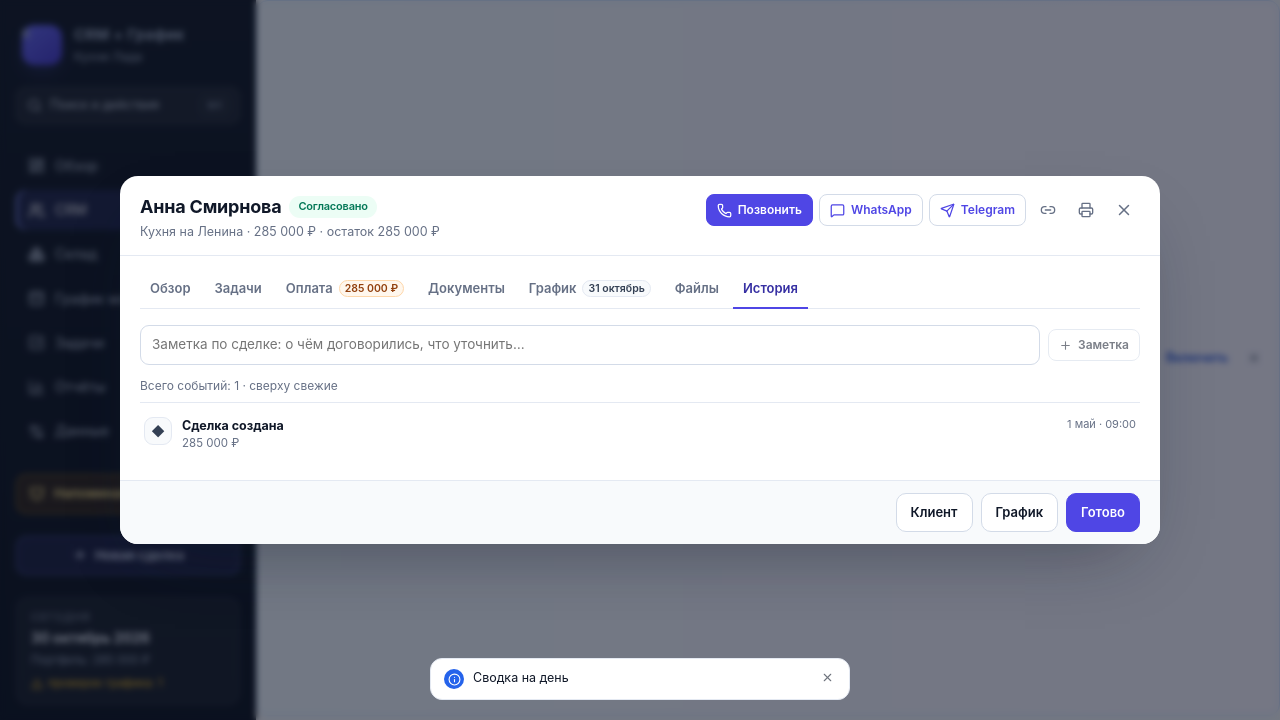
Test: авторство › заметка в истории подписана именем из настроек
Type "Позвонить в пятницу" into the field named "Новая заметка" at (590, 345), box [140,325,1040,365]
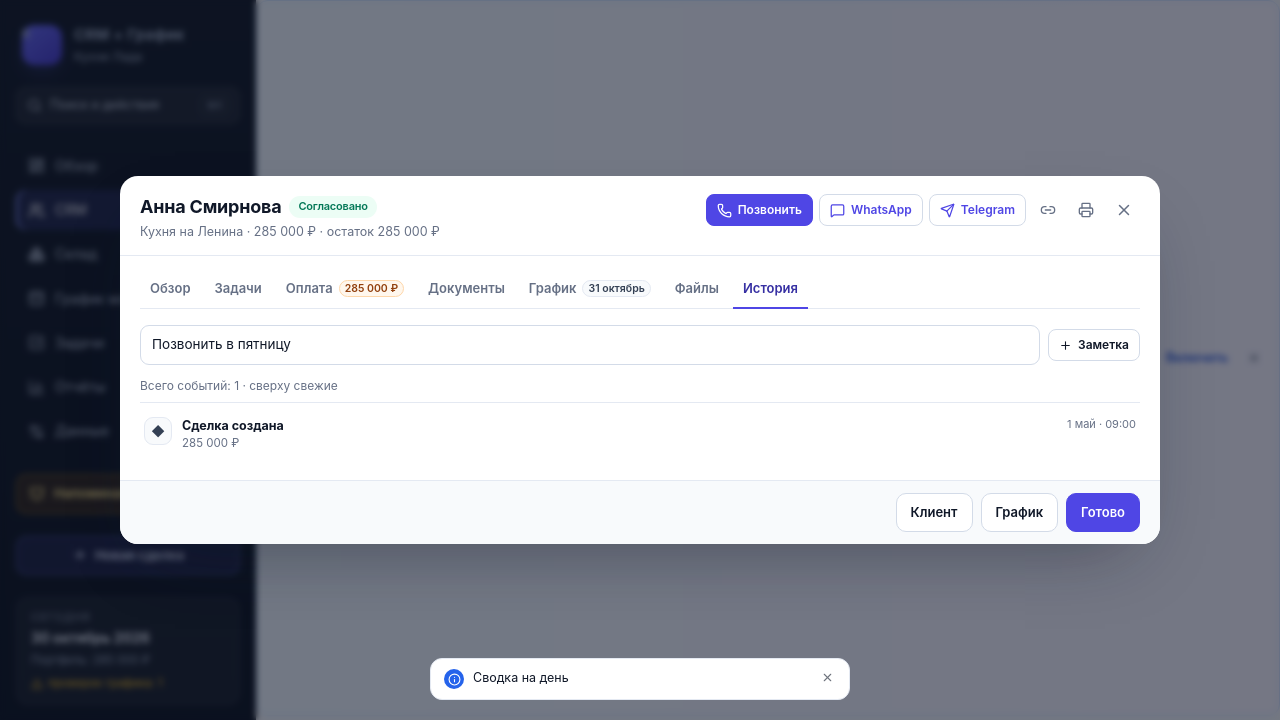
Click the button "Заметка" at (1094, 345), box [1048,329,1140,361]
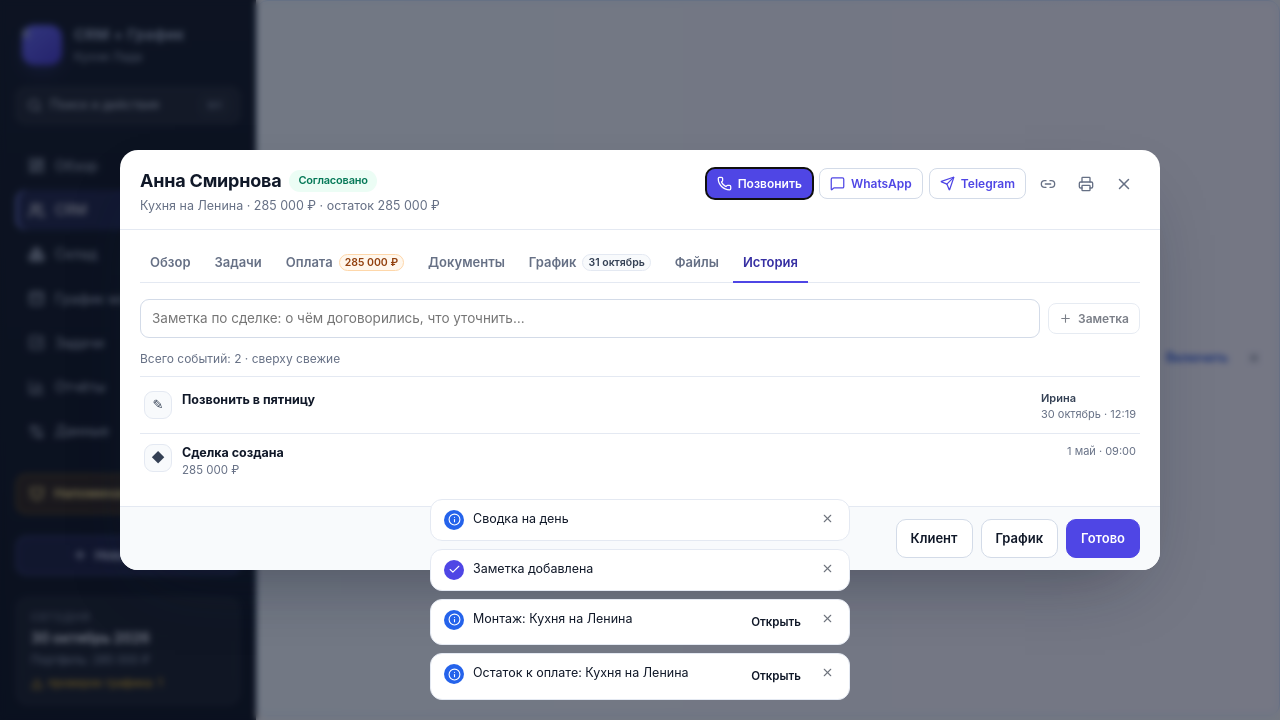
Check: the text "Ирина" is shown, box [1041,391,1076,405]
